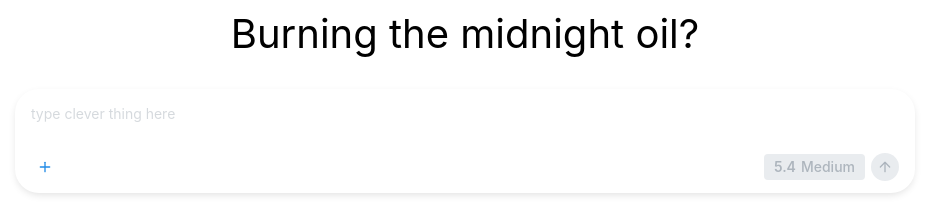
it: ComposerPanel › renders a generated first-character icon for skill suggestions without icon assets
The image size is (931, 213).
Type "$slides" into the text box named "message composer".
click(465, 124); type("$slides")  # box [29,103,901,145]
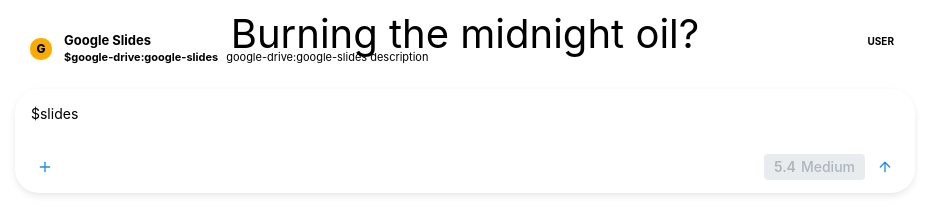
expect the icon with class "kodex-skill-option-icon" reads "G": met, box [36,41,46,56]
